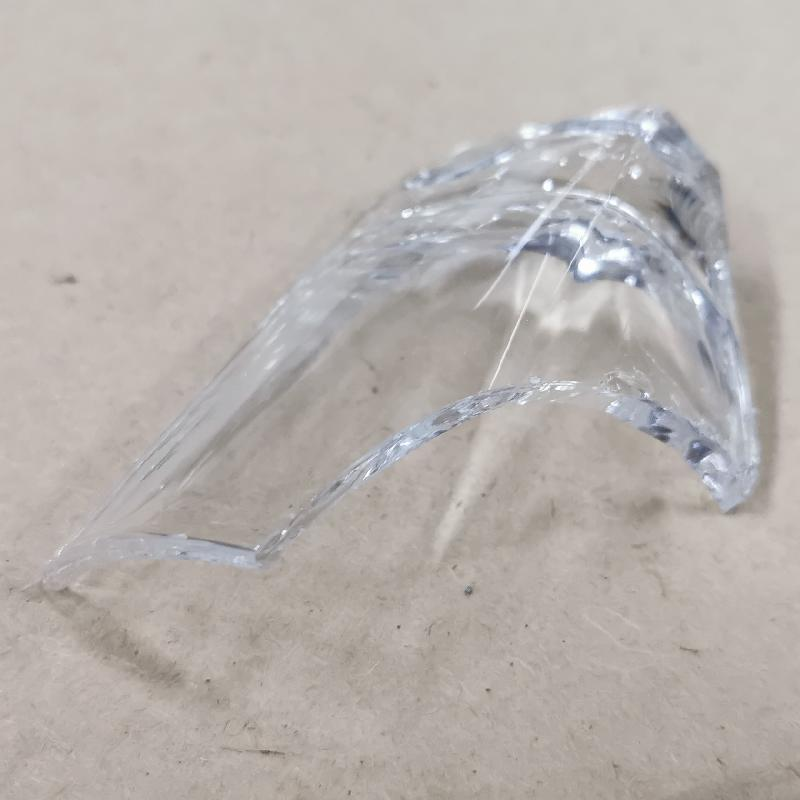glass: (88, 109, 769, 532)
